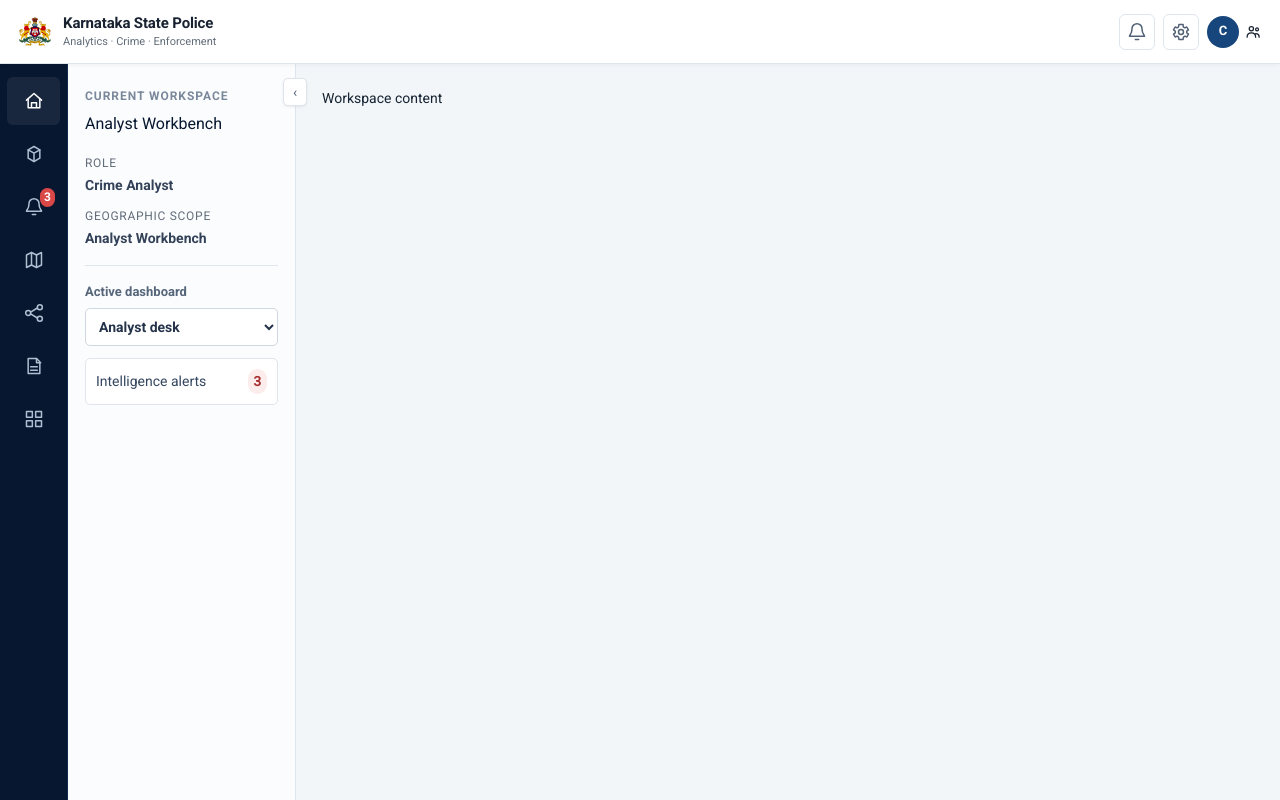
Test: workspace context panel collapses without removing platform navigation
The image size is (1280, 800).
Click the button named "Collapse workspace panel" at (295, 92), box [283,78,307,106]
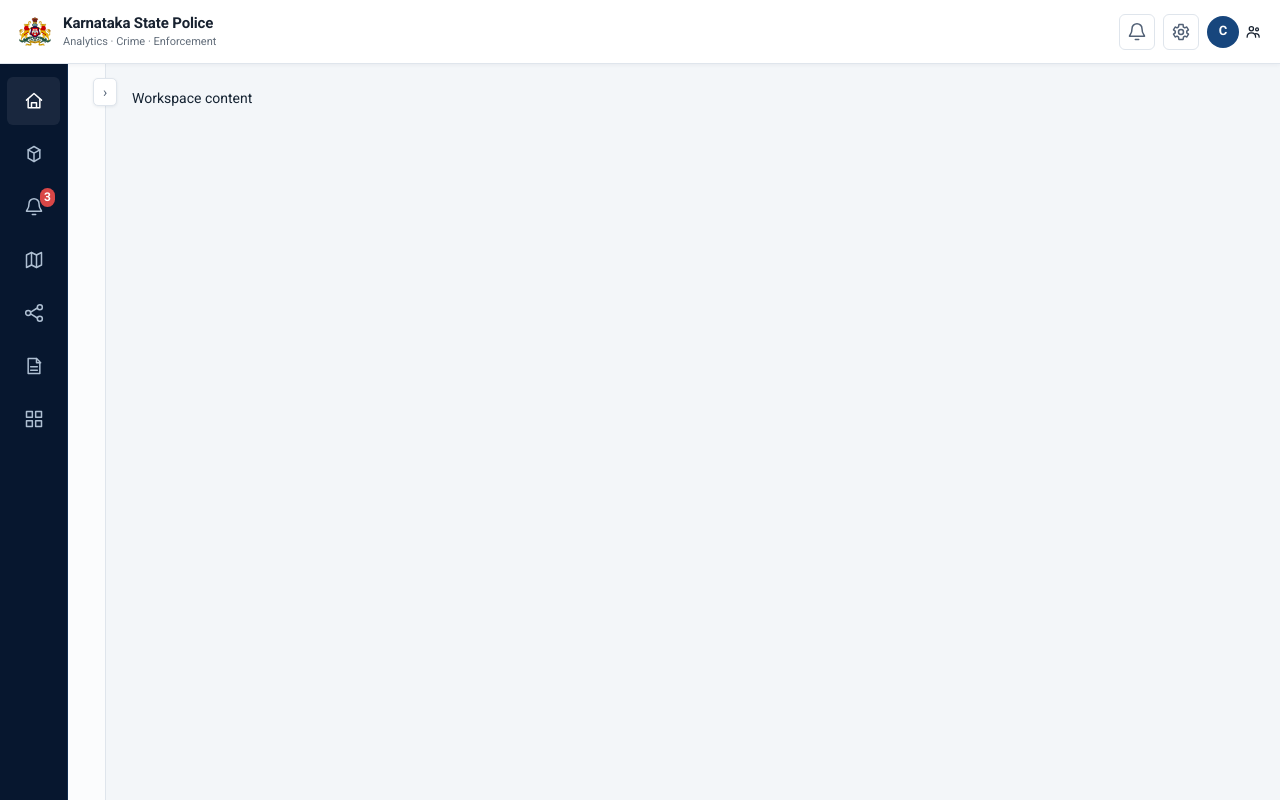
Expected: the navigation bar named "Platform modules" is shown, [0,64,68,799]
Expected: the button named "Expand workspace panel" is collapsed, [93,78,117,106]
Expected: the heading "Analyst Workbench" is gone
